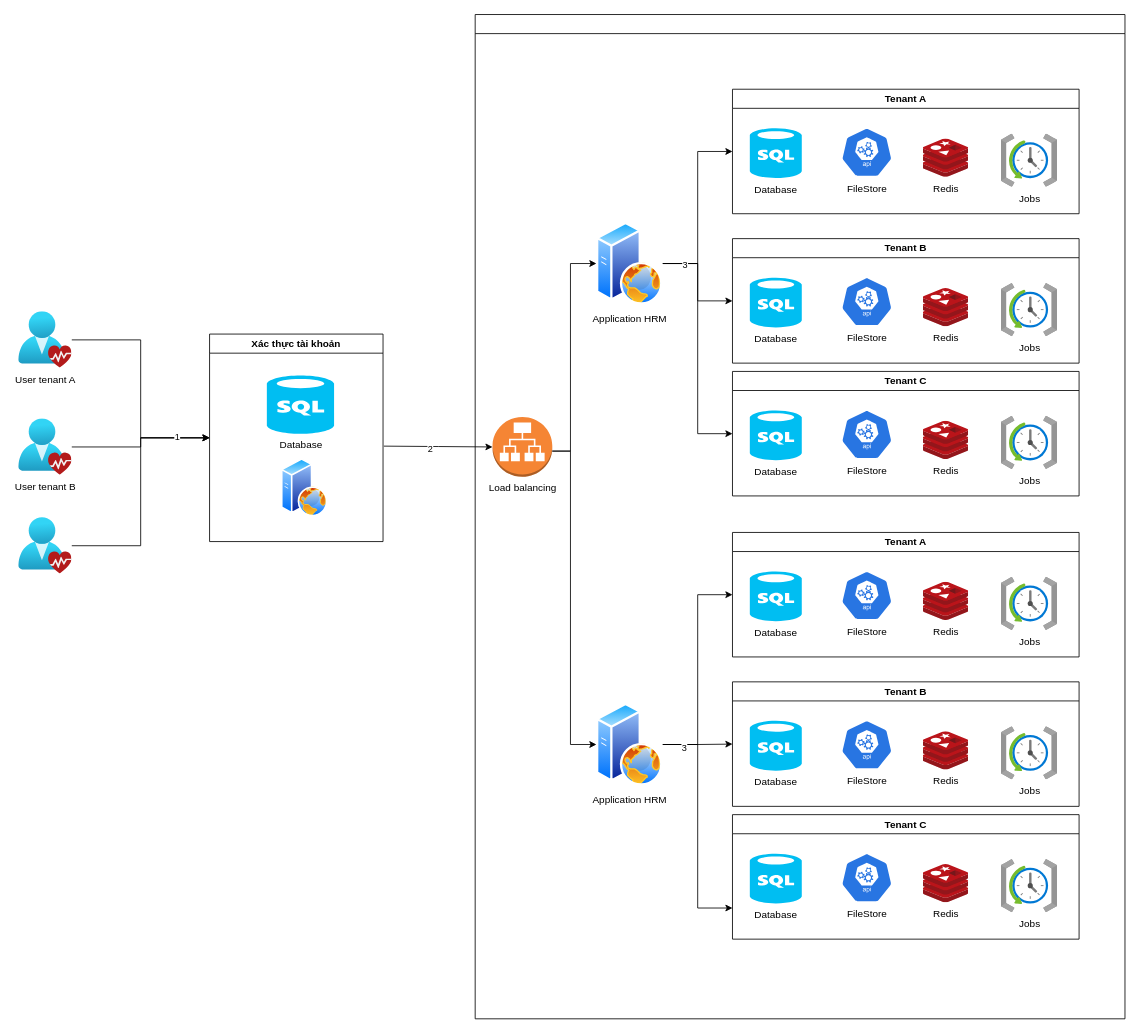
Some shapes in this 1140 by 1033 pixel diagram are drawn without their labels. The shapes that lost their labels are listed below. From the top down, each one's centre as x and y in pixels, then its label:
At [304,487]: "IDS4 Application".
At [799,516]: "Multi Tenant".
At [44,545]: "User tenant C".
